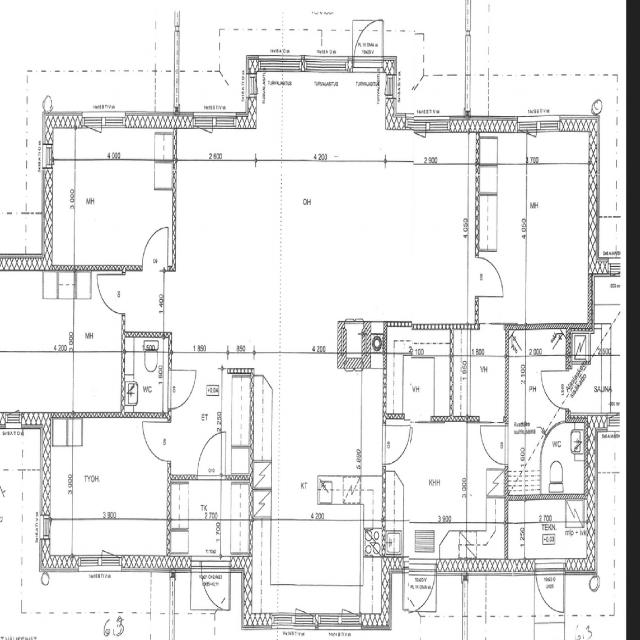door: (404, 558, 436, 623), (354, 10, 383, 72), (535, 558, 564, 619), (202, 556, 230, 614), (198, 431, 225, 479), (474, 257, 504, 297), (382, 425, 411, 465), (541, 371, 572, 408), (143, 226, 168, 270), (167, 370, 195, 409), (142, 423, 170, 461), (481, 426, 508, 464), (97, 275, 124, 312)
